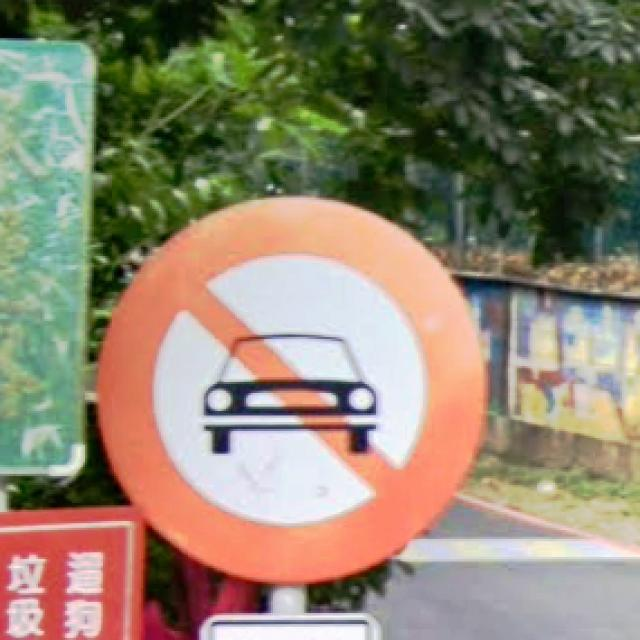nocar: (98, 198, 488, 586)
